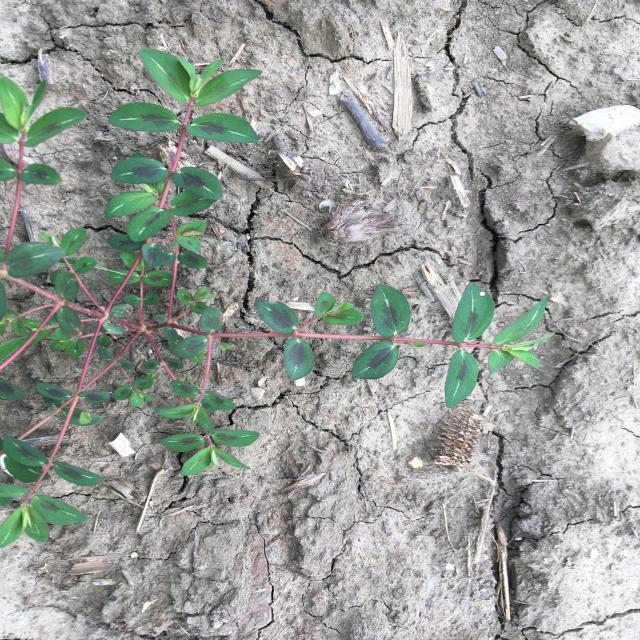SpottedSpurge: (0, 48, 554, 548)
